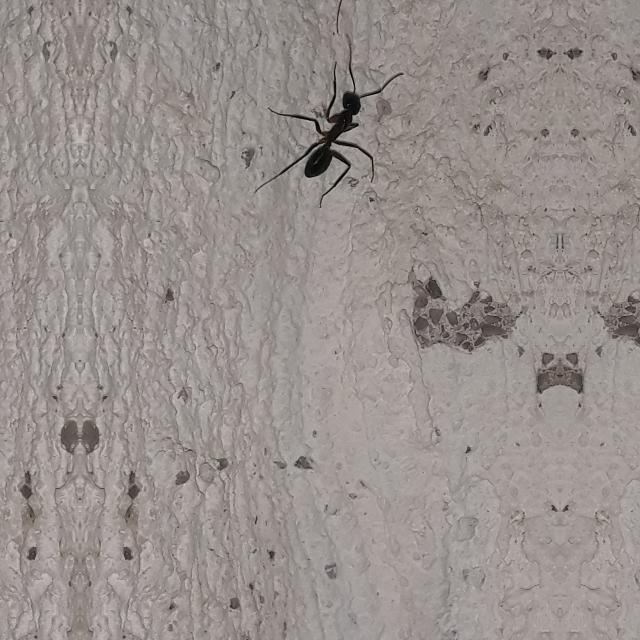Camponotus: (286, 57, 382, 201)
